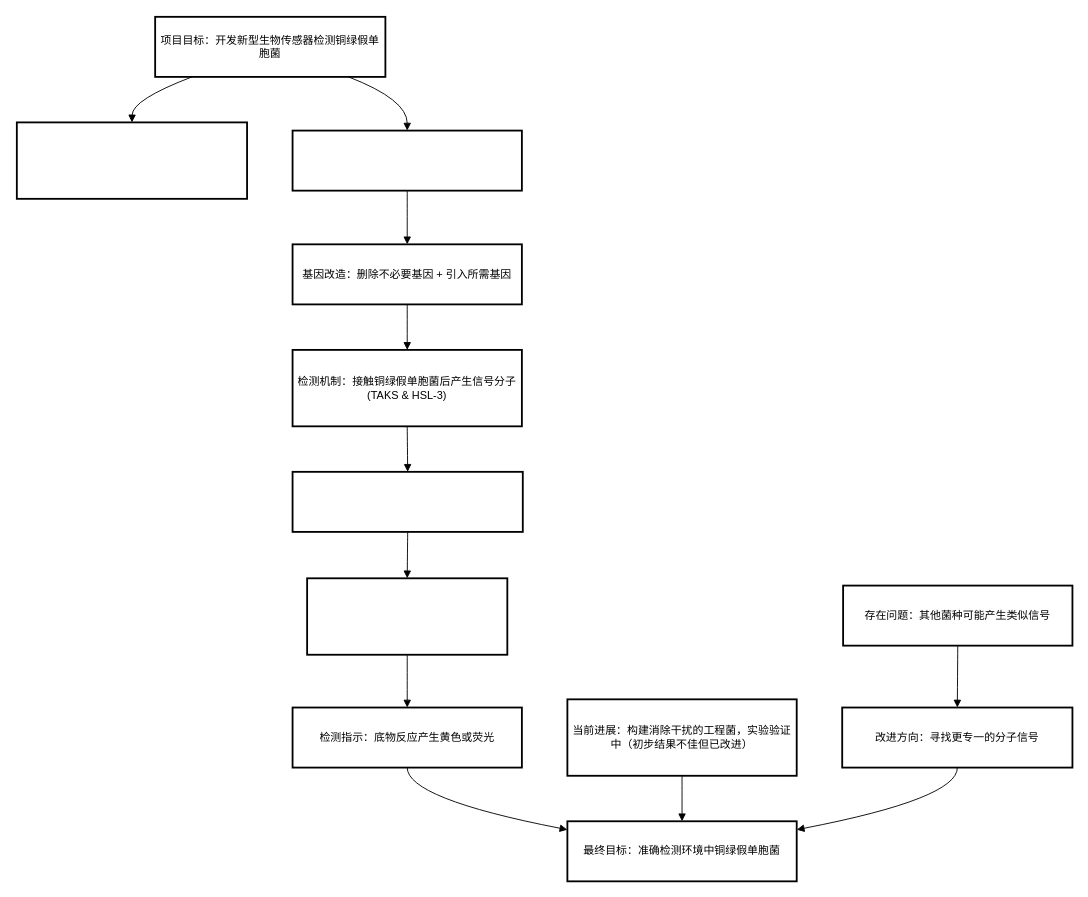
This 1088x897 diagram has some shape labels left out. Each missing label, with the box of its shape:
信号传导：信号分子激活相应蛋白，启动下游基因表达: (291, 470, 523, 532)
市场现状：国内无成熟铜绿假单胞菌检测产品，主要检测大肠杆菌: (15, 121, 248, 199)
策略：以大肠杆菌为基础构建工程菌: (291, 129, 522, 191)
结果输出：表达特定酶 (β-galactosidase / β-glucuronidase): (306, 577, 508, 655)
